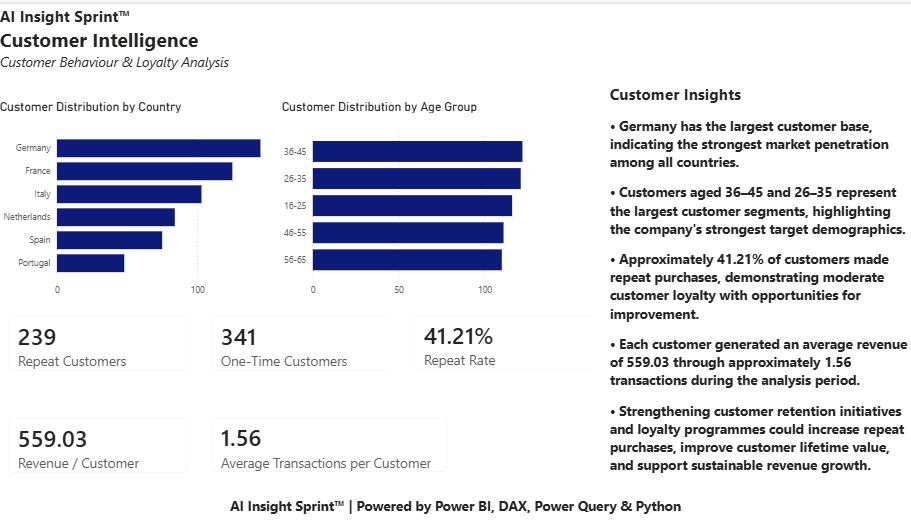

Layout of this report page (visuals, bound fields, positions):
{"tool":"powerbi","page":{"name":"Customer Intelligence","canvas":[1280,720],"ordinal":2},"visuals":[{"type":"textbox","box":[0,0,367.6,108.3],"z":0},{"type":"barChart","title":"Customer Distribution by Country","fields":{"Category":["Customers.Country"],"Y":["Measures (2).Unique Customers"]},"box":[0,134.2,389.4,281.2],"z":1000},{"type":"barChart","title":"Customer Distribution by Age Group","fields":{"Category":["Customers.Age_Range"],"Y":["Measures (2).Unique Customers"]},"box":[389,134.2,394.8,281.2],"z":2000},{"type":"cardVisual","fields":{"Data":["Measures (2).Repeat Customers"]},"box":[0,416.4,281,109],"z":3000},{"type":"cardVisual","fields":{"Data":["Measures (2).One-Time Customers"]},"box":[280.7,416.4,281,110],"z":4000},{"type":"cardVisual","fields":{"Data":["Measures (2).Repeat Rate"]},"box":[560.7,414.6,281,109.8],"z":5000},{"type":"cardVisual","fields":{"Data":["Measures (2).Revenue / Customer"]},"box":[0,556.8,281,109],"z":6000},{"type":"cardVisual","fields":{"Data":["Measures (2).Transactions per Customer"]},"box":[280.7,556.8,360,108.3],"z":7000},{"type":"textbox","box":[841.9,108.2,425.5,569.7],"z":8000},{"type":"textbox","box":[0,677.3,1267.6,39.7],"z":8001}]}

Visuals, with their boxes in screenshot pixels (x1, y1, x2, y2), scaled from the page's 1280x720 canvas onto the 911x521 screenshot:
textbox: l=0, t=0, r=262, b=78
"Customer Distribution by Country" barChart: l=0, t=97, r=277, b=301
"Customer Distribution by Age Group" barChart: l=277, t=97, r=558, b=301
cardVisual - Measures (2).Repeat Customers: l=0, t=301, r=200, b=380
cardVisual - Measures (2).One-Time Customers: l=200, t=301, r=400, b=381
cardVisual - Measures (2).Repeat Rate: l=399, t=300, r=599, b=379
cardVisual - Measures (2).Revenue / Customer: l=0, t=403, r=200, b=482
cardVisual - Measures (2).Transactions per Customer: l=200, t=403, r=456, b=481
textbox: l=599, t=78, r=902, b=491
textbox: l=0, t=490, r=902, b=519
